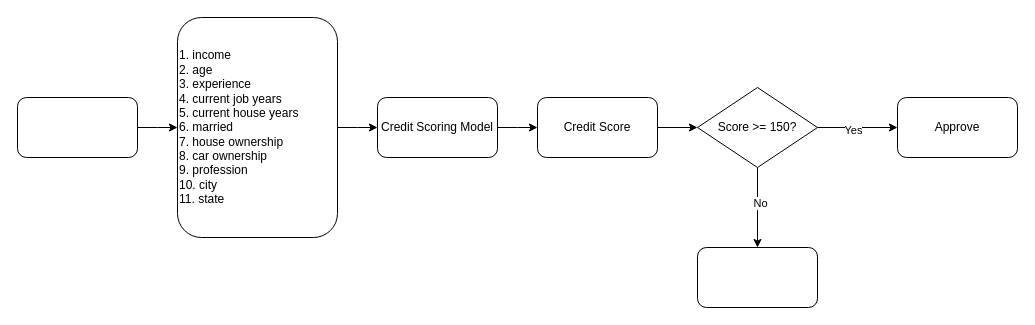
The diagram is 1035 pixels wide and 325 high, and some of its shapes have lost their labels. Each missing label, with the centre of its shape:
Input Customer ID: (x=77, y=127)
Reject: (x=757, y=277)
